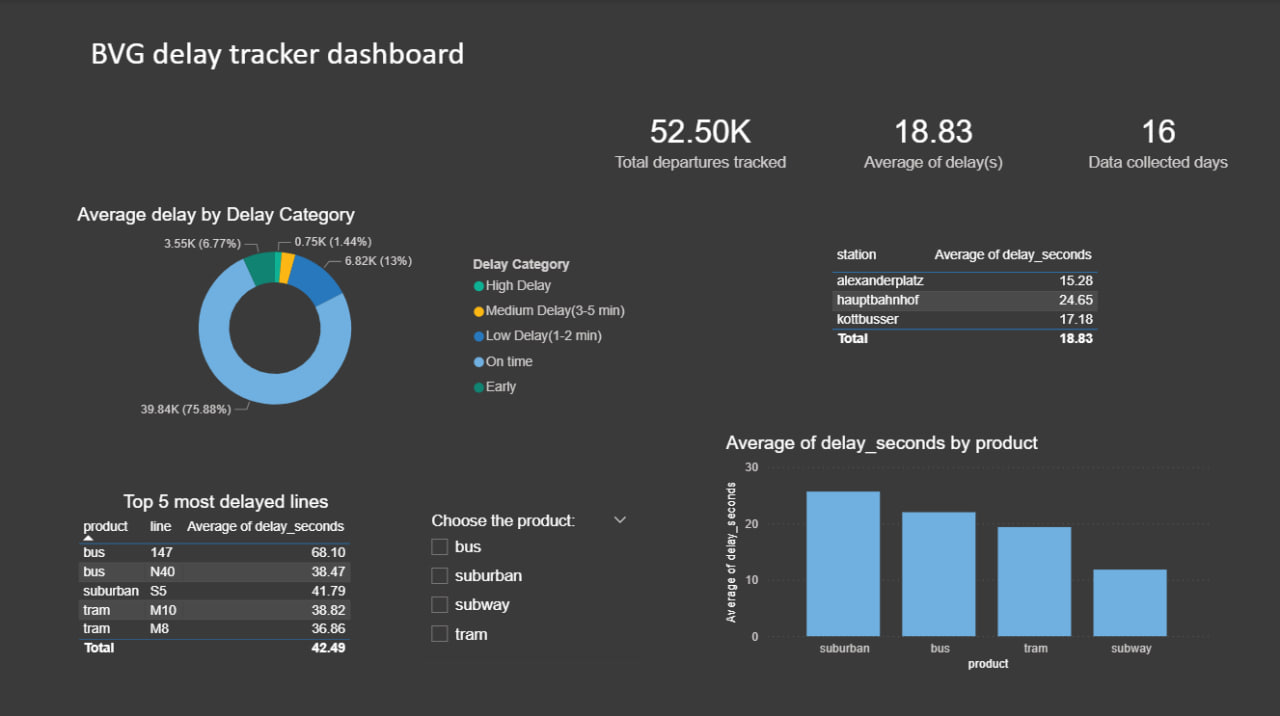

What the dashboard file says about the page in this screenshot:
{"tool":"powerbi","page":{"name":"Page 1","canvas":[1280,720],"ordinal":0},"visuals":[{"type":"tableEx","fields":{"Values":["departures_clean.station","Avg(departures_clean.delay_seconds)"]},"box":[826.1,241.5,285.4,130.4],"z":0},{"type":"columnChart","fields":{"Category":["departures_clean.product"],"Y":["Avg(departures_clean.delay_seconds)"]},"box":[721.8,433.6,492.6,242.9],"z":1000},{"type":"card","fields":{"Values":["Avg(departures_clean.delay_seconds)"]},"box":[812.4,83.7,244.3,112.5],"z":2000},{"type":"card","fields":{"Values":["CountNonNull(departures_clean.delay_seconds)"]},"box":[580.4,83.7,241.5,112.5],"z":3000},{"type":"card","fields":{"Values":["departures_clean.Data collected days"]},"box":[1056.6,83.7,204.5,112.5],"z":4000},{"type":"donutChart","fields":{"Category":["departures_clean.Delay Category"],"Y":["CountNonNull(departures_clean.delay_seconds)"]},"box":[72.7,204.5,566.7,229.2],"z":5000},{"type":"tableEx","title":"Top 5 most delayed lines","fields":{"Values":["departures_clean.product","departures_clean.line","Avg(departures_clean.delay_seconds)"]},"box":[72.7,492.6,307.4,177],"z":6000},{"type":"slicer","fields":{"Values":["departures_clean.product"]},"box":[418.5,507.7,220.9,149.6],"z":7000},{"type":"textbox","box":[41.2,28.8,473.4,54.9],"z":8000}]}

Visuals, with their boxes in screenshot pixels (x1, y1, x2, y2), scaled from the page's 1280x720 canvas onto the 1280x716 screenshot:
tableEx - departures_clean.station x Avg(departures_clean.delay_seconds): bbox(826, 240, 1112, 370)
columnChart - departures_clean.product x Avg(departures_clean.delay_seconds): bbox(722, 431, 1214, 673)
card - Avg(departures_clean.delay_seconds): bbox(812, 83, 1057, 195)
card - CountNonNull(departures_clean.delay_seconds): bbox(580, 83, 822, 195)
card - departures_clean.Data collected days: bbox(1057, 83, 1261, 195)
donutChart - departures_clean.Delay Category x CountNonNull(departures_clean.delay_seconds): bbox(73, 203, 639, 431)
"Top 5 most delayed lines" tableEx: bbox(73, 490, 380, 666)
slicer - departures_clean.product: bbox(418, 505, 639, 654)
textbox: bbox(41, 29, 515, 83)
